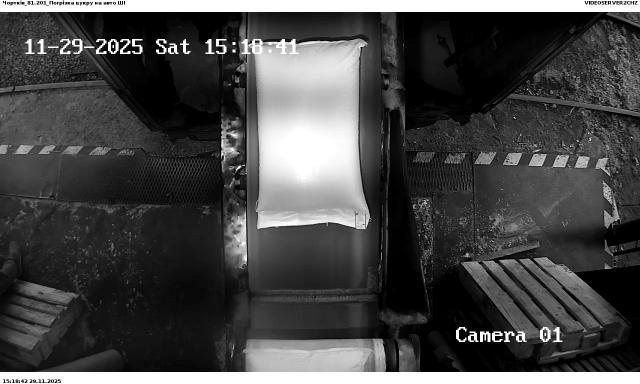bag: (250, 39, 371, 230), (245, 349, 374, 372)
